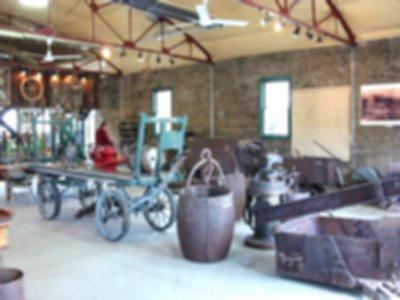Otro Obstaculo: (262, 199, 399, 291), (34, 162, 175, 245), (169, 150, 239, 265)
